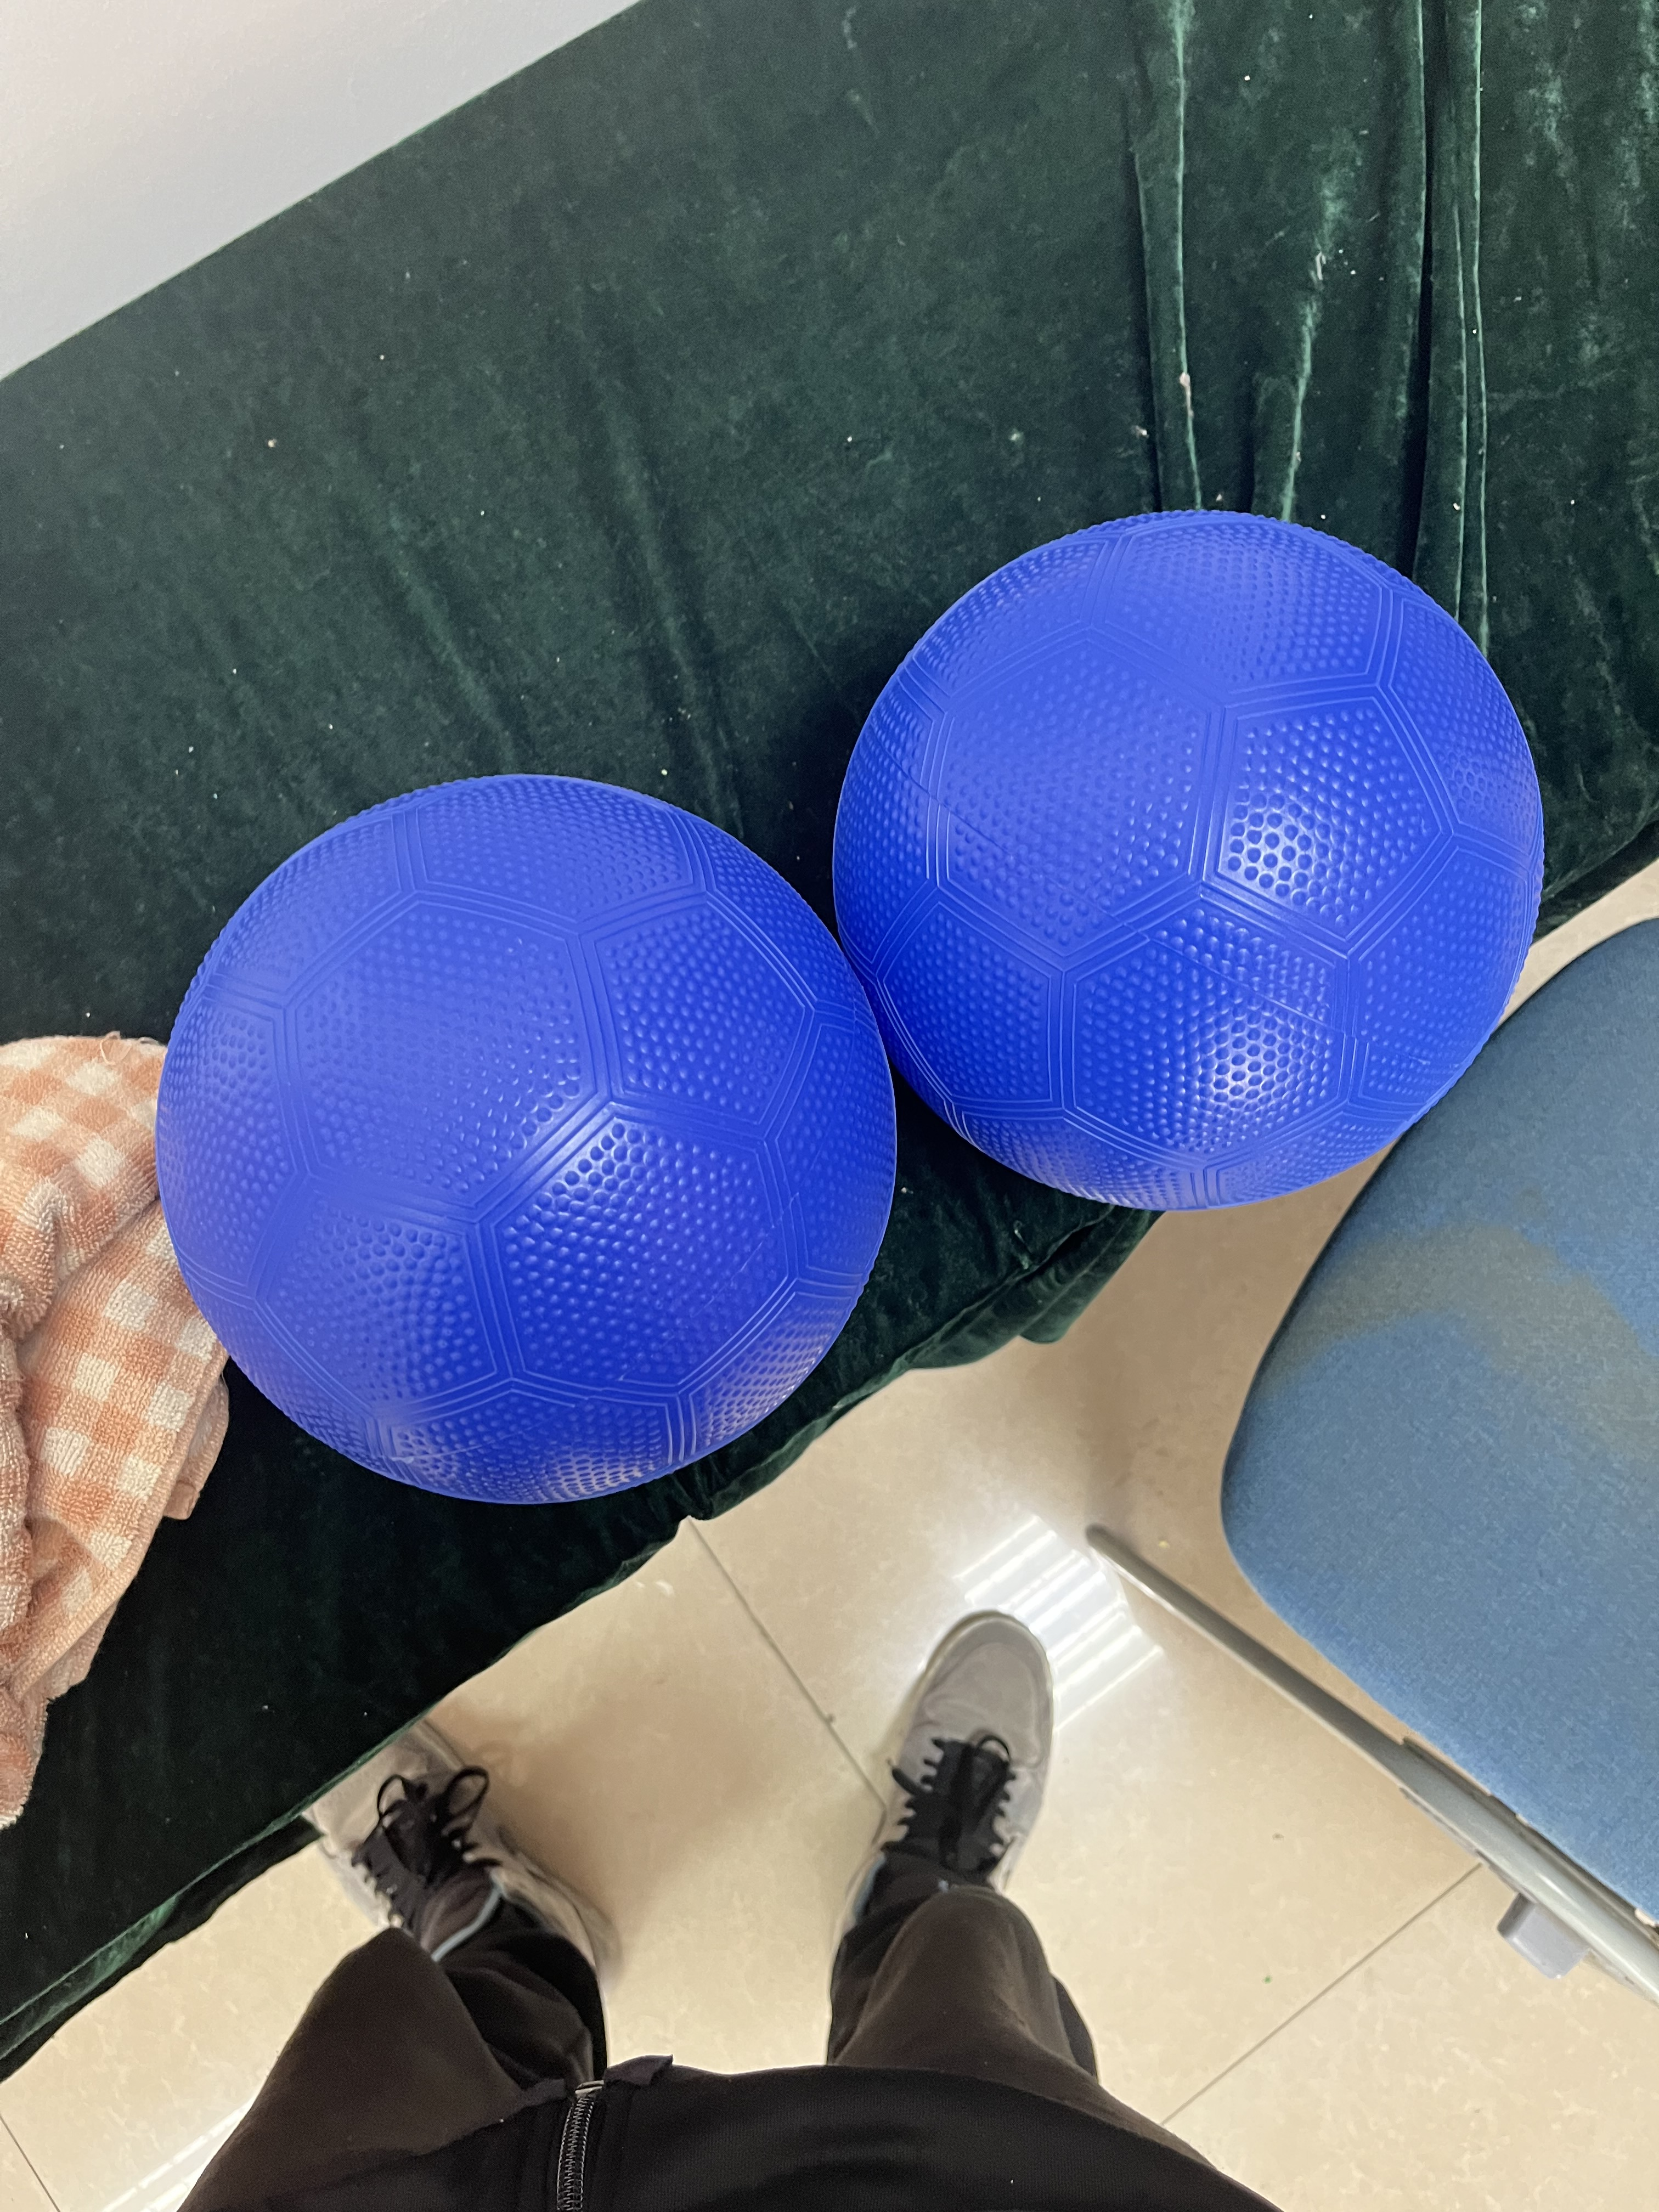blue: (143, 763, 927, 1524), (826, 500, 1558, 1251)
